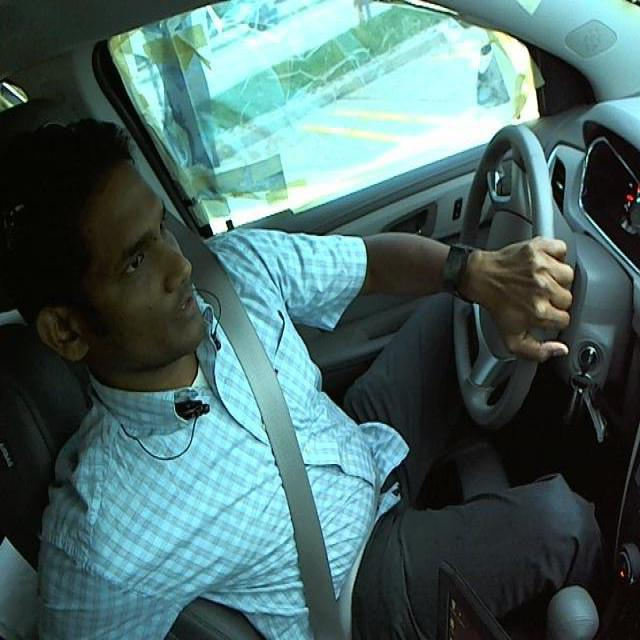seatbelt: (205, 303, 367, 620)
